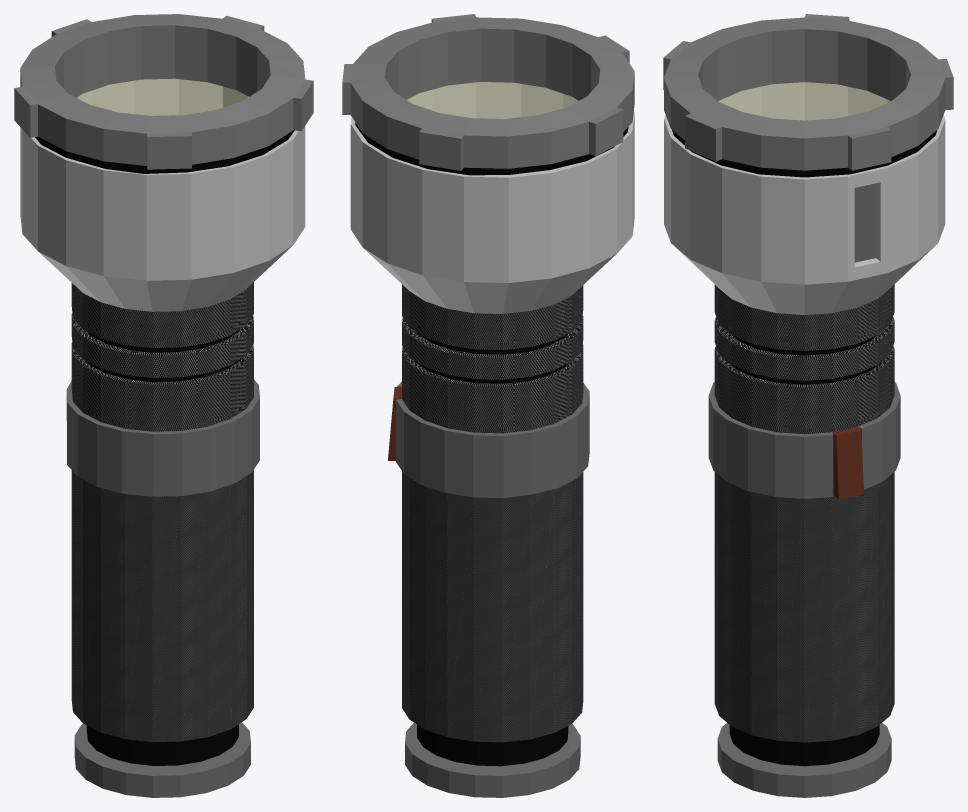
Rendered from flashlight.fbx.
3 views of the same model, side by side, from view 1: azimuth 30°, elevation 25°; view 2: azimuth 150°, elevation 25°; view 3: azimuth 270°, elevation 25° (orthographic).
Visible parts, largest first — view 1: pCylinder1; view 2: pCylinder1; view 3: pCylinder1.
Part boxes in pixels (x1=…): pCylinder1: x1=14, y1=14, x2=313, y2=797; pCylinder1: x1=342, y1=14, x2=634, y2=797; pCylinder1: x1=663, y1=14, x2=953, y2=797.
Bounding box in the file's own units: 9.98 × 25.59 × 9.82.
